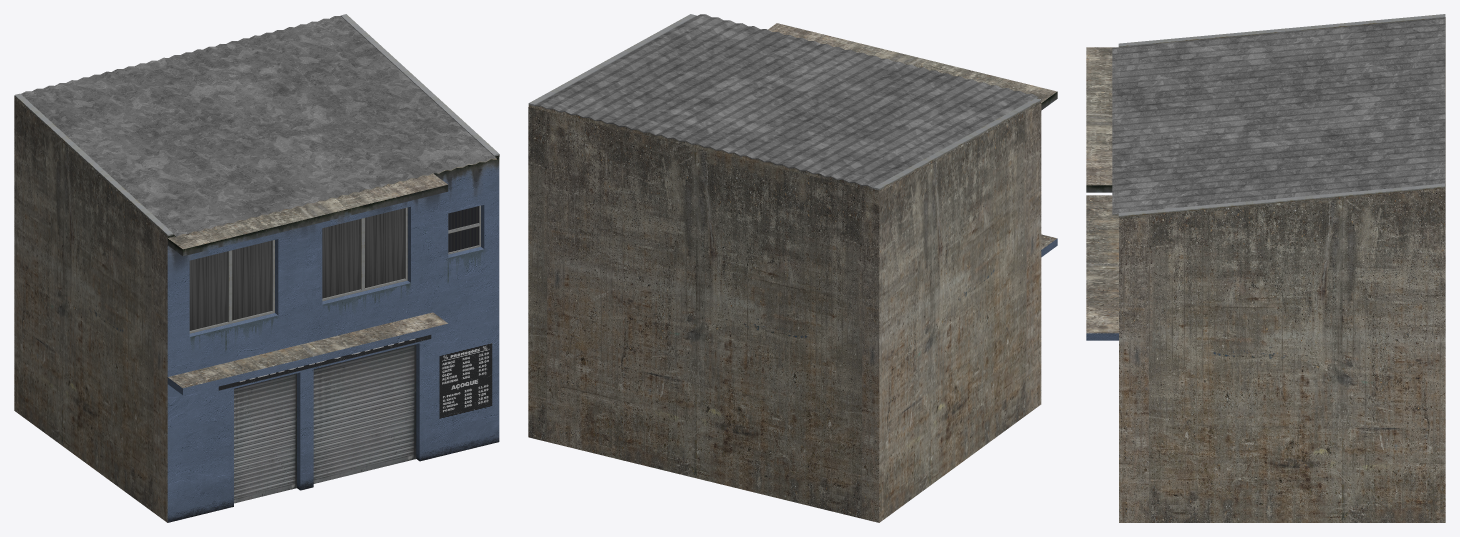
File: shop.fbx
The picture shows the model from 3 angles, left to right: view 1: azimuth 30°, elevation 25°; view 2: azimuth 150°, elevation 25°; view 3: azimuth 270°, elevation 25°; orthographic projection. The views are drawn at different scales.
Visible parts, largest first — view 1: shop; view 2: shop; view 3: shop.
Part boxes in pixels (x1,y1,x2,y2): shop: [14, 14, 499, 522]; shop: [528, 14, 1057, 522]; shop: [1086, 14, 1445, 522].
Bounding box in the file's own units: 500 × 456 × 440.
